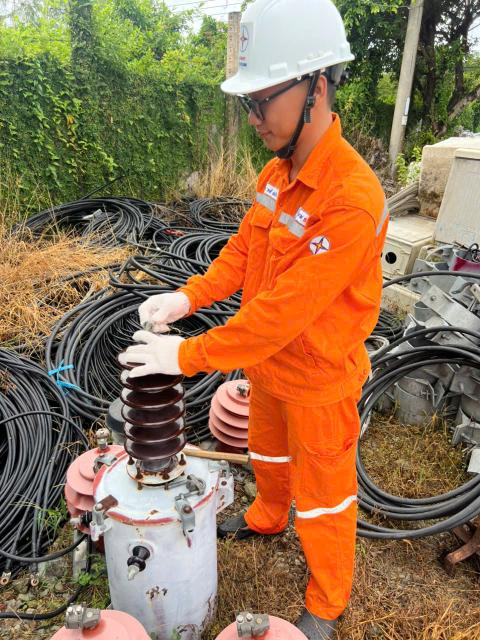gloves: (116, 326, 198, 386), (134, 279, 197, 335)
helmet: (199, 0, 376, 98)
shoes: (202, 500, 278, 551), (278, 599, 342, 640)
